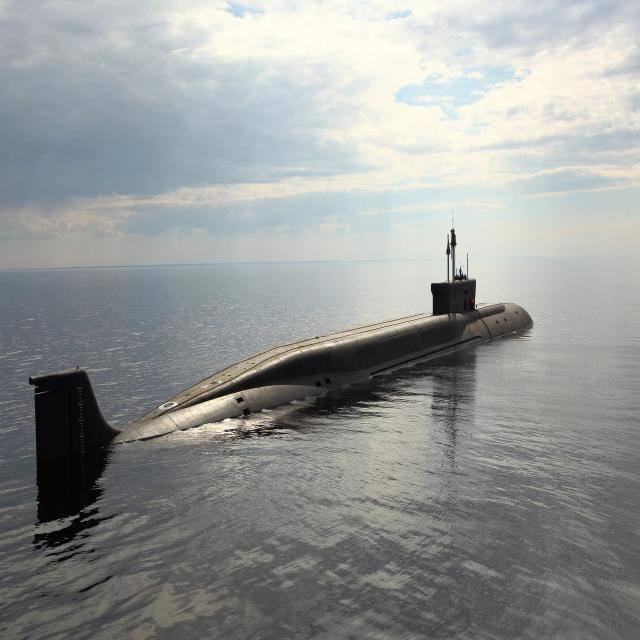submarine: (29, 222, 540, 492)
